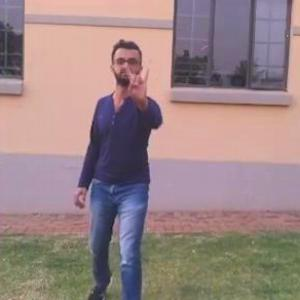takeoff-hand: (117, 56, 156, 109)
